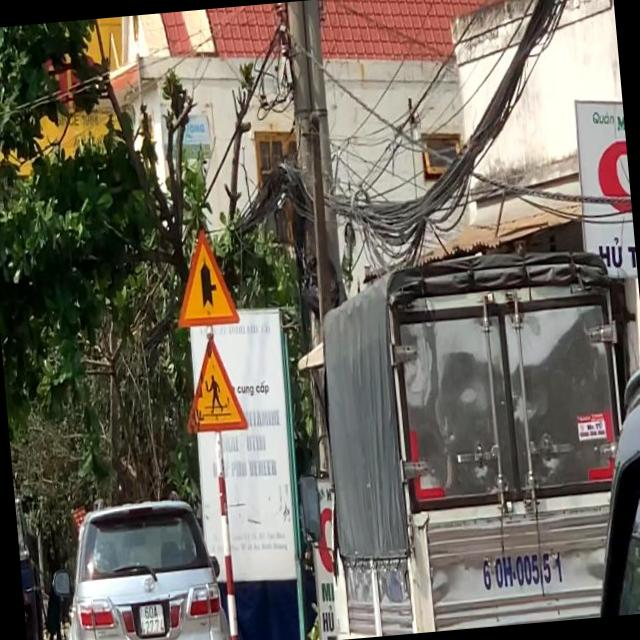W-207b: (167, 224, 240, 330)
W-224: (176, 332, 248, 438)
